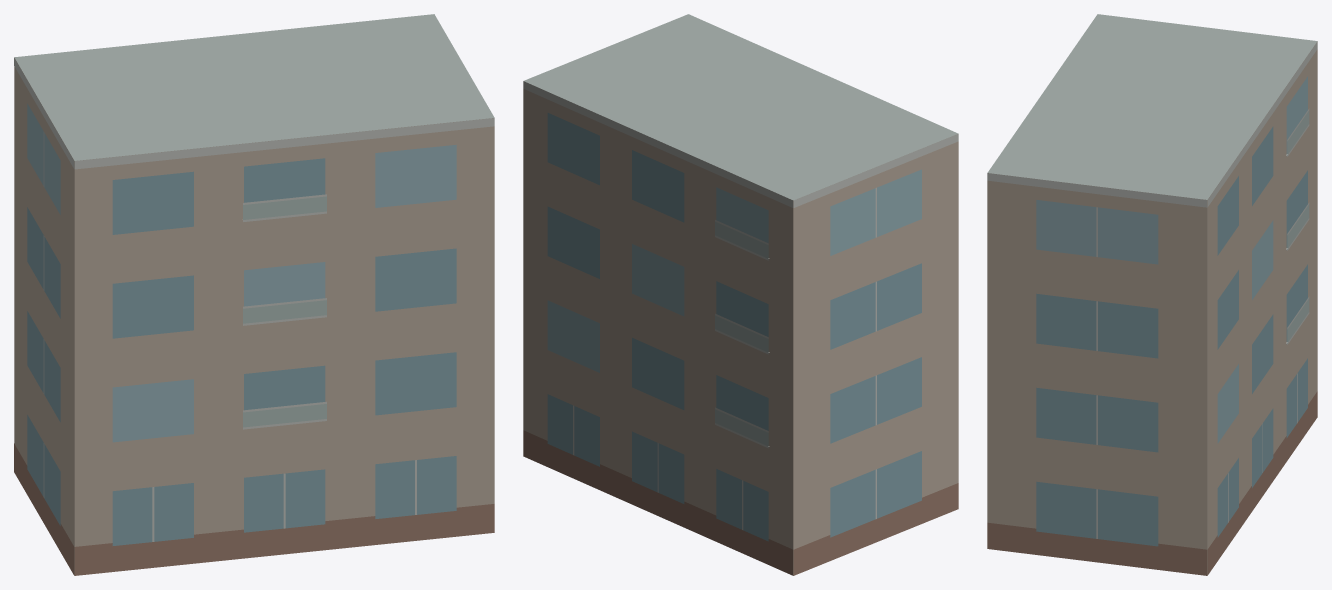
File: survey-upis-32913408.glb
3 renders of one model, left to right at view 1: azimuth 30°, elevation 25°; view 2: azimuth 150°, elevation 25°; view 3: azimuth 270°, elevation 25°, orthographic. The views are drawn at different scales.
Parts seen in each view (by area): view 1: survey-upis-32913408.tmp; view 2: survey-upis-32913408.tmp; view 3: survey-upis-32913408.tmp.
Part boxes in pixels (bbox=[...]): survey-upis-32913408.tmp: bbox=[14, 14, 494, 575]; survey-upis-32913408.tmp: bbox=[523, 14, 958, 575]; survey-upis-32913408.tmp: bbox=[987, 14, 1317, 575].
Bounding box in the file's own units: 12.63 × 11.9 × 9.49.
